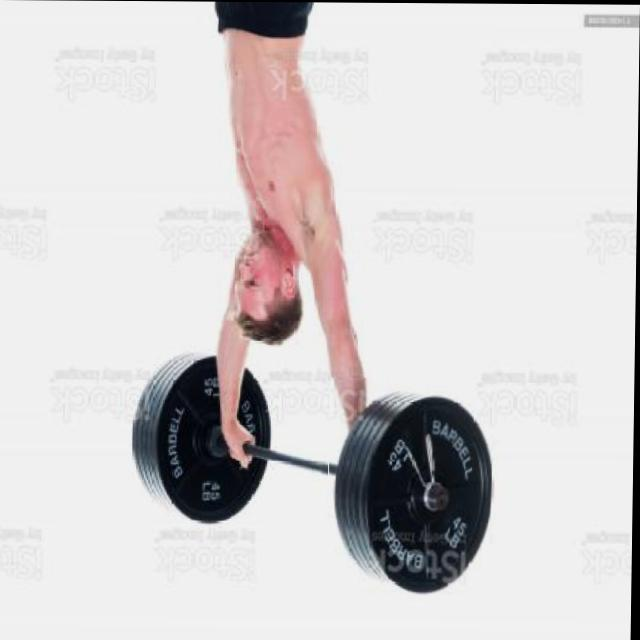barbell: (329, 378, 499, 606)
